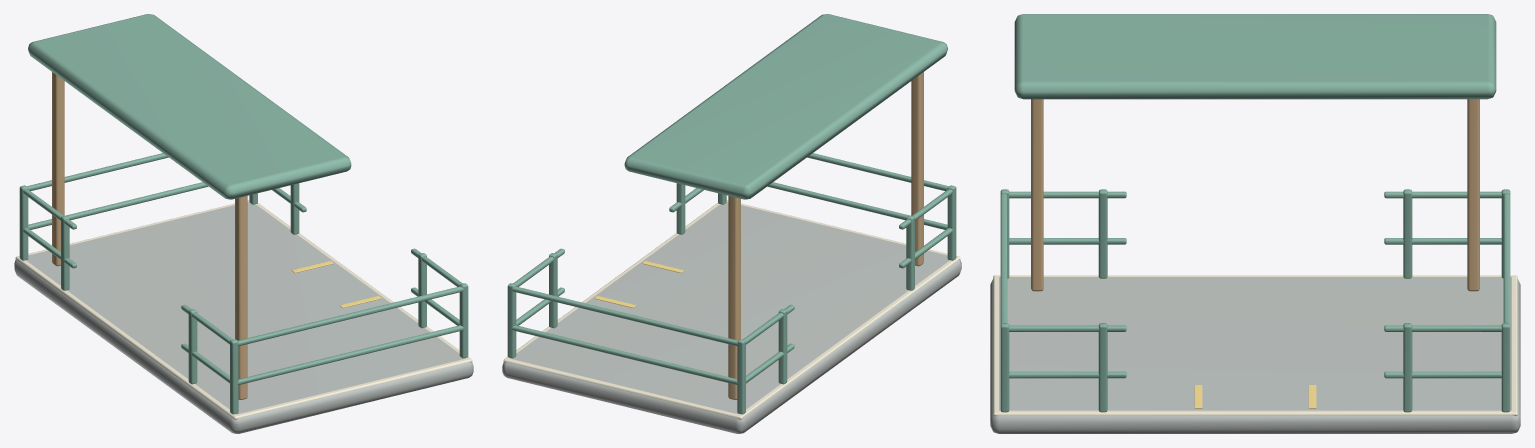
Rendered from train_platform.glb.
3 renders of one model, left to right at view 1: azimuth 30°, elevation 25°; view 2: azimuth 150°, elevation 25°; view 3: azimuth 270°, elevation 25°, orthographic. The views are drawn at different scales.
Bounding box in the file's own units: 3.4 × 3.23 × 5.4.
